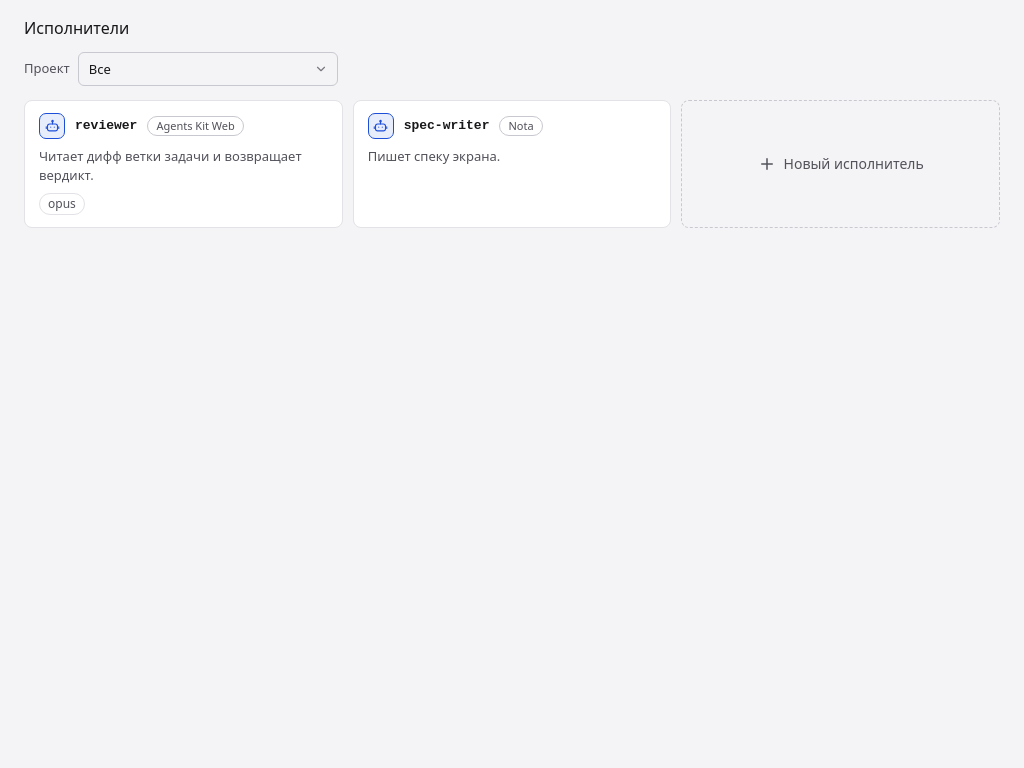
Test: новый исполнитель заводится карточкой последней в сетке, а не кнопкой в шапке
The width and height of the screenshot is (1024, 768).
Note: На «Всех» окно встаёт на первом проекте.
Click the button "Новый исполнитель": (841, 164) [681, 100, 1000, 228]
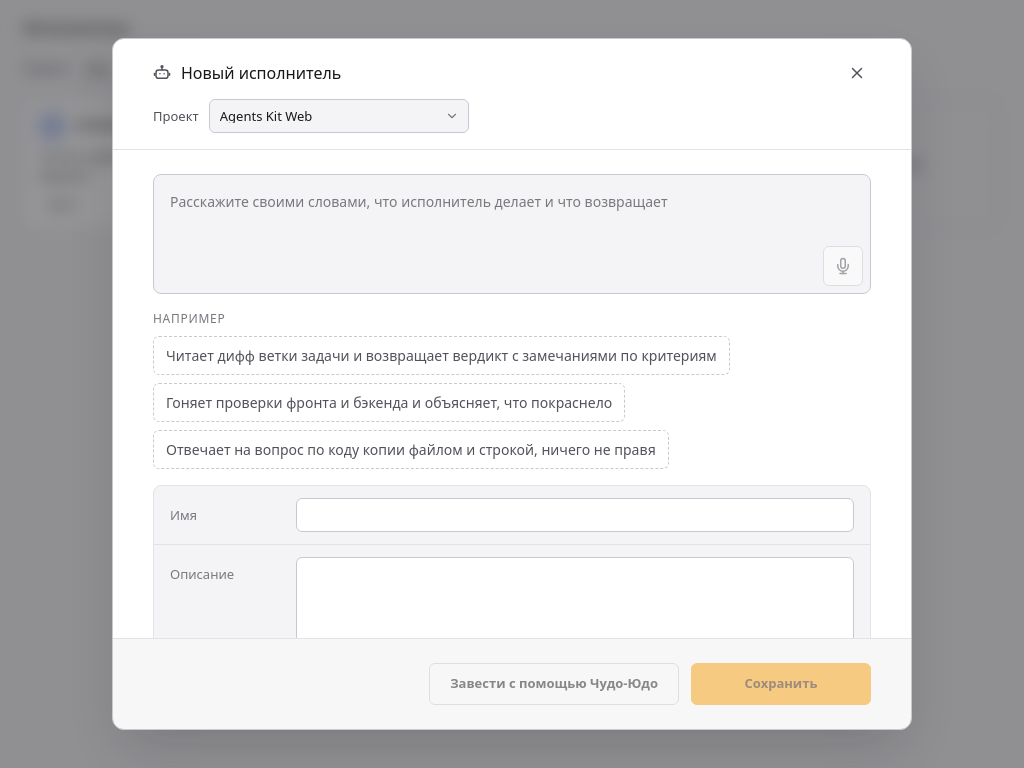
Expected: the dropdown labelled "Проект" shows "Agents Kit Web", [209, 99, 469, 133]
